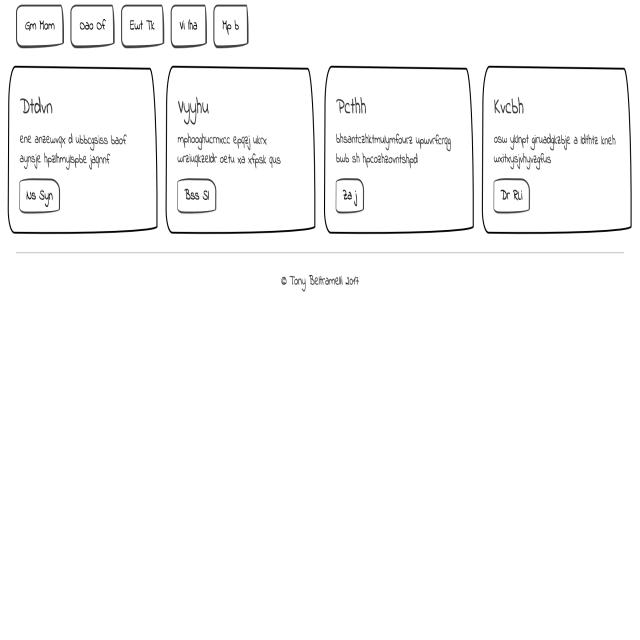Button: (172, 175, 220, 217), (15, 176, 65, 216), (490, 175, 534, 216), (334, 173, 368, 214)
Card: (480, 59, 636, 235), (5, 64, 159, 236), (323, 63, 475, 235), (164, 65, 315, 234)
Footer: (0, 246, 640, 640)
Heading 6: (488, 88, 538, 120), (330, 88, 376, 122), (172, 92, 215, 128), (20, 91, 58, 118)
Navigation Bar: (12, 1, 258, 49)
Paragraph: (494, 128, 620, 172), (336, 127, 455, 169), (14, 130, 135, 170), (174, 130, 286, 171)
